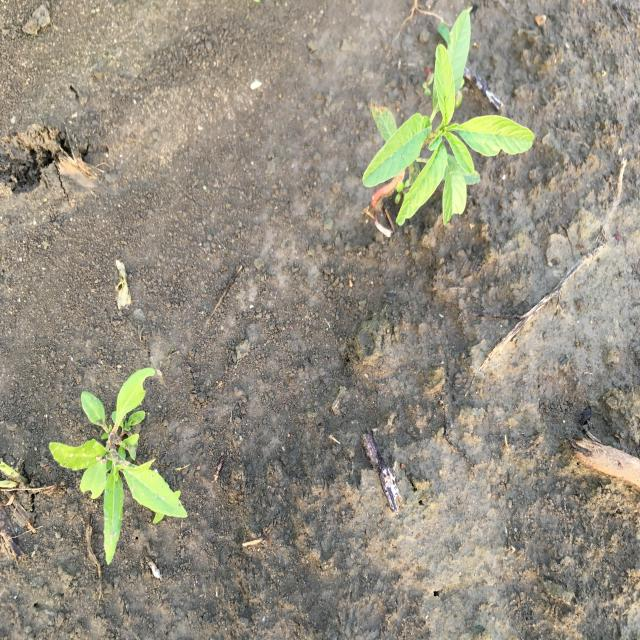Eclipta: (47, 367, 190, 565)
Waterhemp: (361, 8, 537, 230)
